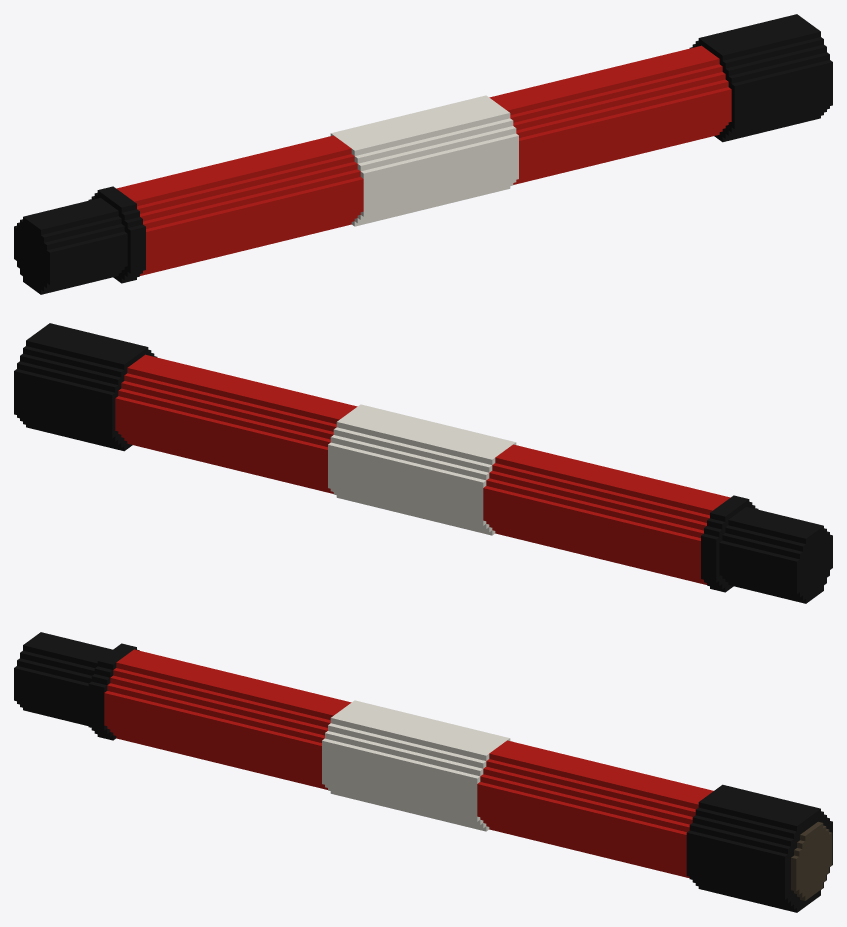
The model's file is handflare.glb.
The picture shows the model from 3 angles, top to bottom: view 1: azimuth 30°, elevation 25°; view 2: azimuth 150°, elevation 25°; view 3: azimuth 330°, elevation 25°; orthographic projection.
Visible parts, largest first — view 1: handflare:compound; view 2: handflare:compound; view 3: handflare:compound.
Part boxes in pixels (bbox=[...]): handflare:compound: bbox=[14, 14, 832, 294]; handflare:compound: bbox=[14, 323, 832, 603]; handflare:compound: bbox=[14, 632, 832, 912].
Size of the model in its own units: 0.302 by 0.032 by 0.032.
